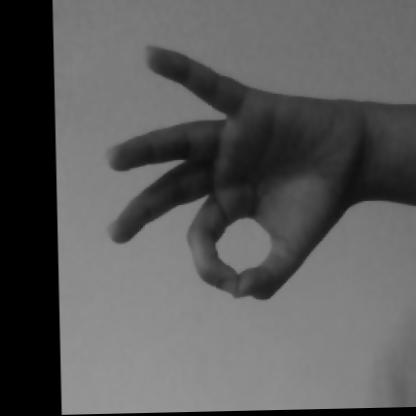ok: (93, 15, 381, 348)
